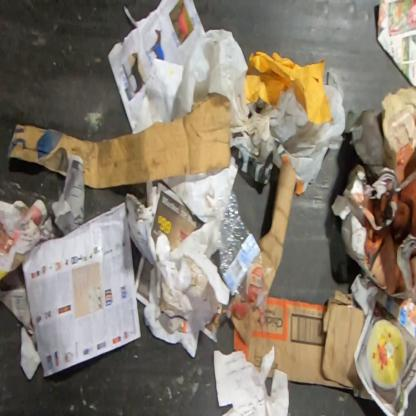cardboard: (6, 93, 232, 189), (233, 287, 366, 392), (224, 160, 298, 346), (380, 85, 416, 171)
rigid_plastic: (214, 186, 264, 302)
soft_plastic: (172, 28, 347, 182)
